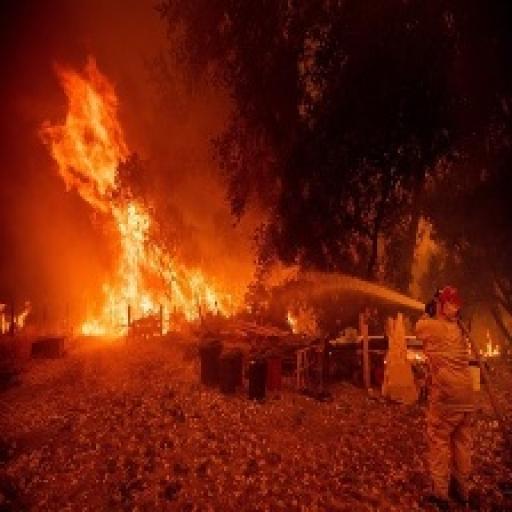fire and smoke: (42, 58, 242, 333)
